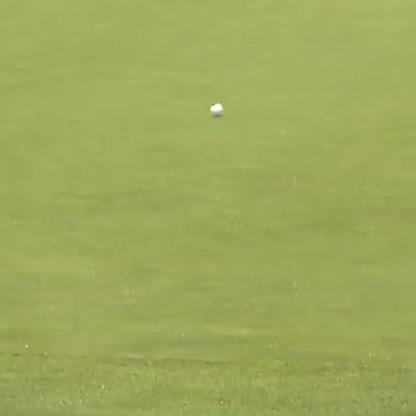golfball: (209, 102, 223, 116)
